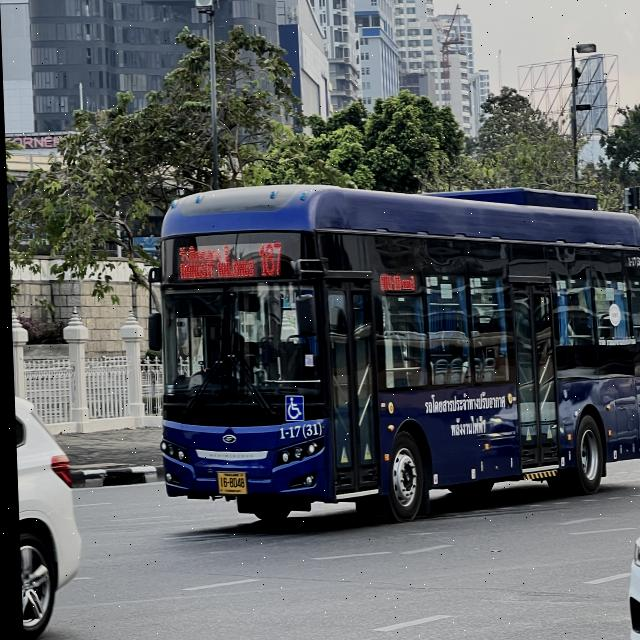Bus-Line-Number: (254, 240, 284, 281)
Destination-Sign-Normal: (172, 243, 255, 280)
TSB-Bus: (149, 186, 640, 524)
